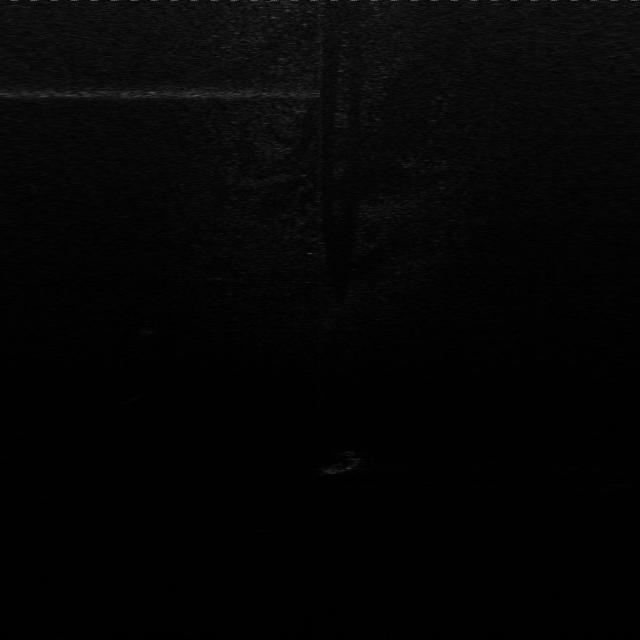tyre: (316, 442, 366, 480)
